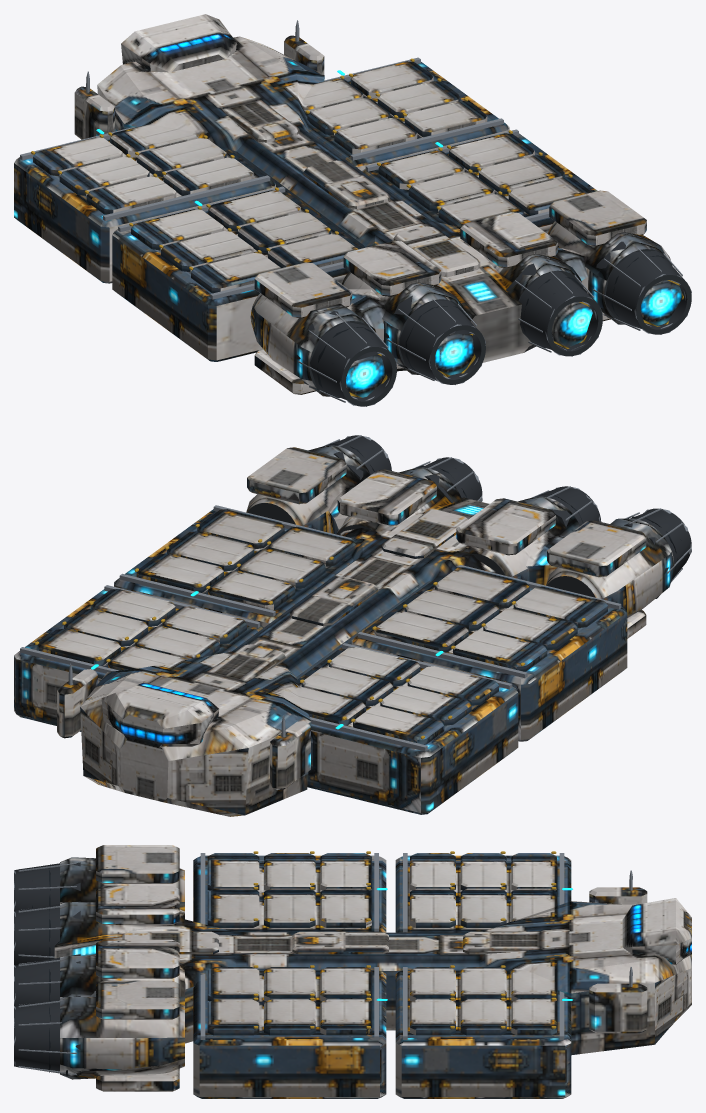
The model's file is authority-freighter-lod2.glb.
3 views of the same model, one above another, from view 1: azimuth 30°, elevation 25°; view 2: azimuth 150°, elevation 25°; view 3: azimuth 270°, elevation 25° (orthographic). The views are drawn at different scales.
Visible parts, largest first — view 1: Static / Reference artwork | titanium, brass, panels and can, Static / Structural frames | gunmetal, Static / Machined titanium edges, Static / Warm brass collars, Static / Ventral armor | dedicated bottom-view reference; view 2: Static / Reference artwork | titanium, brass, panels and can, Static / Structural frames | gunmetal, Static / Machined titanium edges, Static / Ventral armor | dedicated bottom-view reference, Static / Warm brass collars; view 3: Static / Reference artwork | titanium, brass, panels and can, Static / Structural frames | gunmetal, Static / Machined titanium edges, Static / Ventral armor | dedicated bottom-view reference, Static / Warm brass collars.
Part boxes in pixels (<box>): Static / Reference artwork | titanium, brass, panels and can: <box>14,14,682,397</box>; Static / Structural frames | gunmetal: <box>296,240,691,406</box>; Static / Machined titanium edges: <box>20,20,691,406</box>; Static / Warm brass collars: <box>31,58,683,397</box>; Static / Ventral armor | dedicated bottom-view reference: <box>17,136,643,396</box>; Static / Reference artwork | titanium, brass, panels and can: <box>14,445,674,815</box>; Static / Structural frames | gunmetal: <box>247,435,691,598</box>; Static / Machined titanium edges: <box>20,435,691,751</box>; Static / Ventral armor | dedicated bottom-view reference: <box>17,480,641,816</box>; Static / Warm brass collars: <box>35,524,585,739</box>; Static / Reference artwork | titanium, brass, panels and can: <box>54,845,691,1096</box>; Static / Structural frames | gunmetal: <box>14,862,80,1073</box>; Static / Machined titanium edges: <box>14,853,632,1074</box>; Static / Ventral armor | dedicated bottom-view reference: <box>60,881,691,1098</box>; Static / Warm brass collars: <box>253,851,556,1028</box>.
Bounding box in the file's own units: 11.72 × 3.13 × 17.85.
7 materials, 2 textured.
